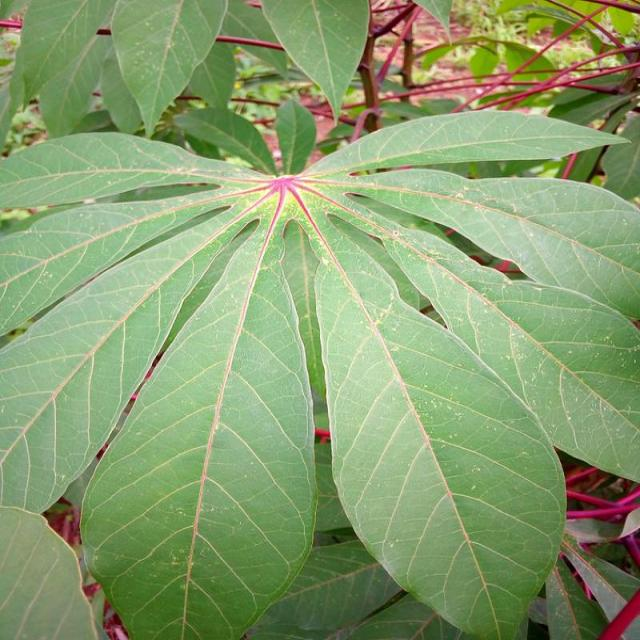cassava leaf: (0, 103, 638, 637), (312, 208, 568, 638), (78, 220, 318, 638)
